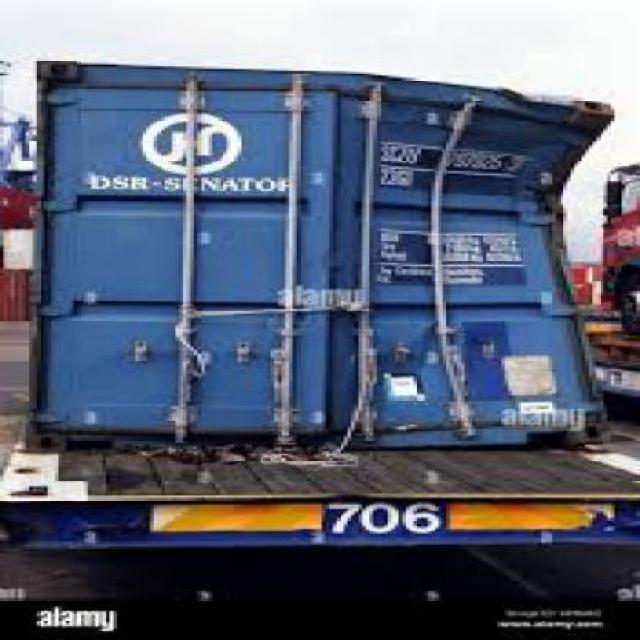dent: (420, 88, 613, 237), (363, 75, 467, 109)
